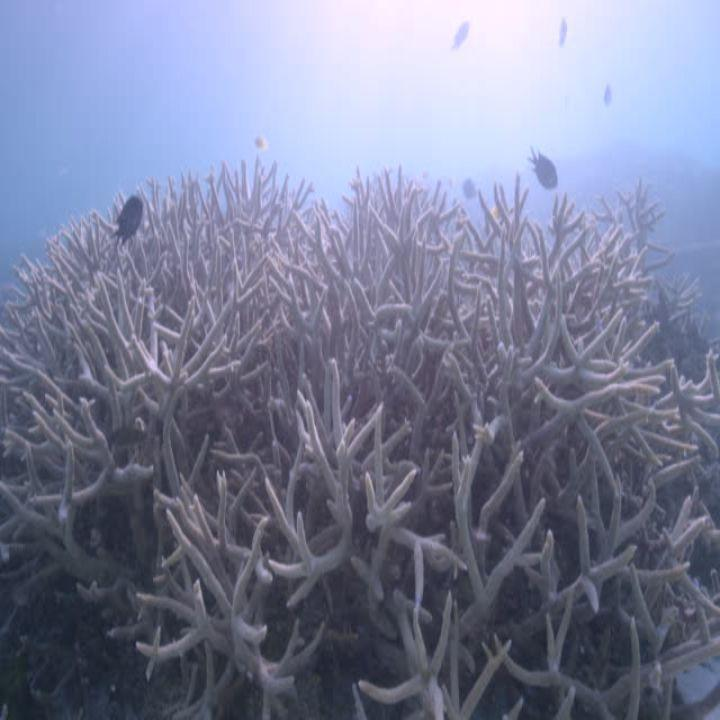Dead Coral: (16, 171, 719, 703)
